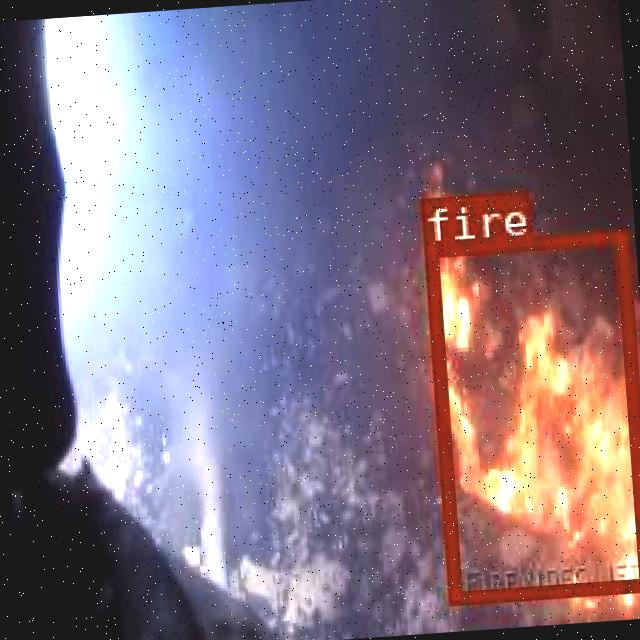fire: (421, 227, 640, 601)
